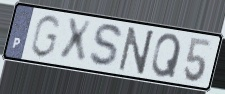5: (182, 35, 213, 84)
G: (28, 13, 62, 60)
N: (116, 25, 156, 76)
Q: (150, 32, 183, 80)
S: (87, 22, 125, 70)
X: (57, 16, 95, 65)
